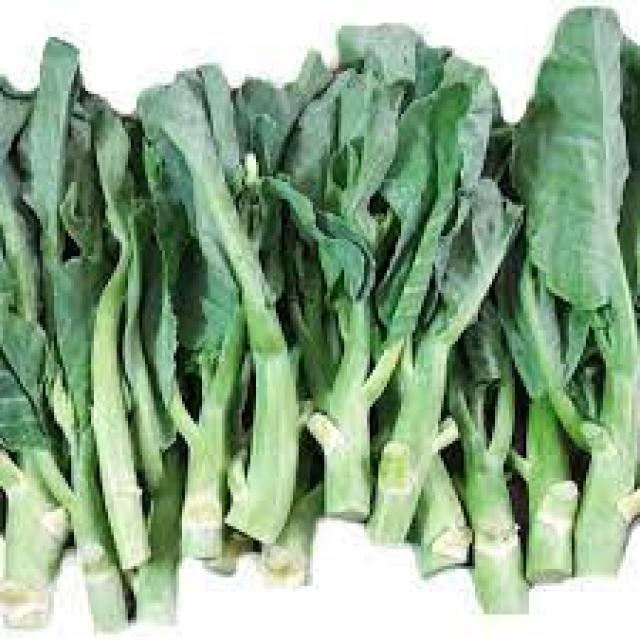collard: (0, 9, 640, 633)
